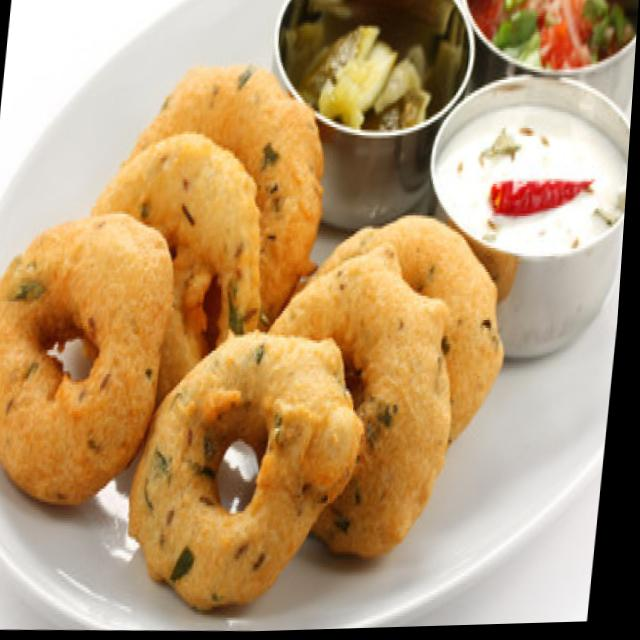CURD: (436, 99, 628, 259)
CURRY: (278, 0, 462, 130)
VADA: (0, 59, 523, 628)
